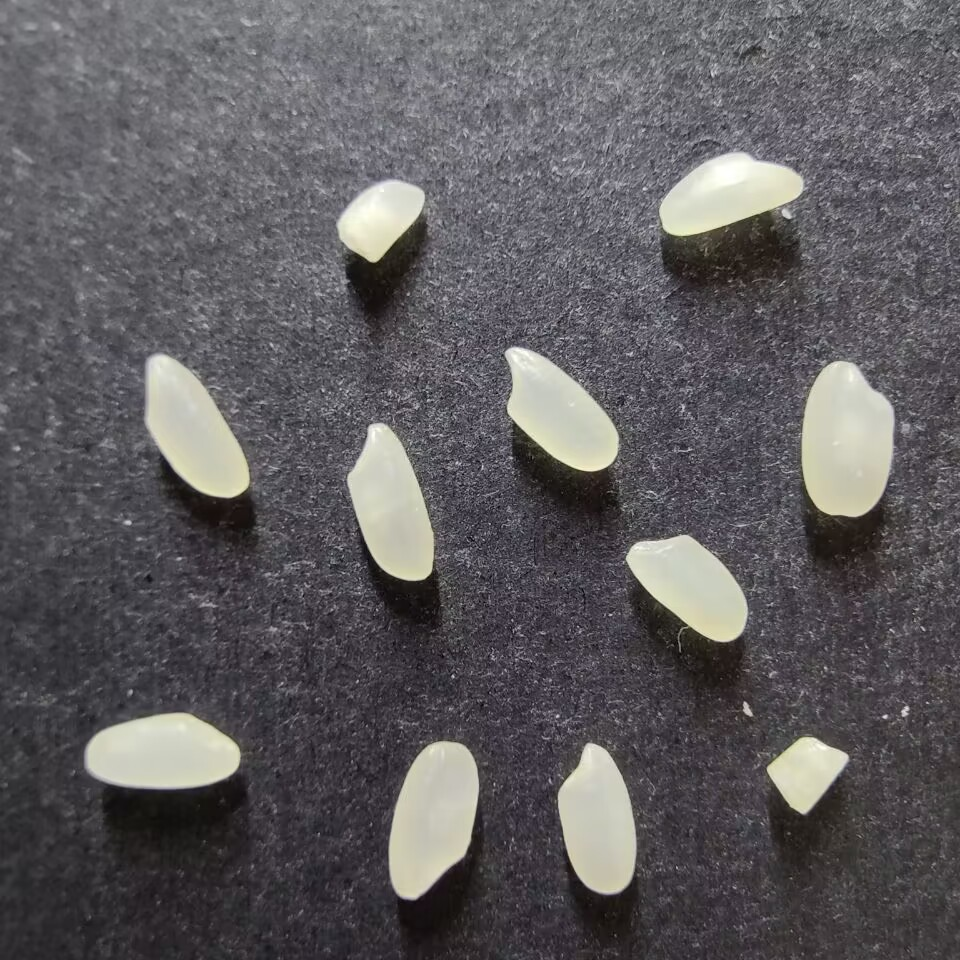broken: (336, 178, 426, 263), (764, 736, 849, 816)
rice: (144, 355, 250, 499), (799, 360, 894, 518), (502, 346, 619, 473), (387, 740, 478, 900), (345, 422, 434, 582), (625, 534, 748, 643), (658, 151, 803, 236), (556, 742, 636, 895), (85, 712, 240, 788)
